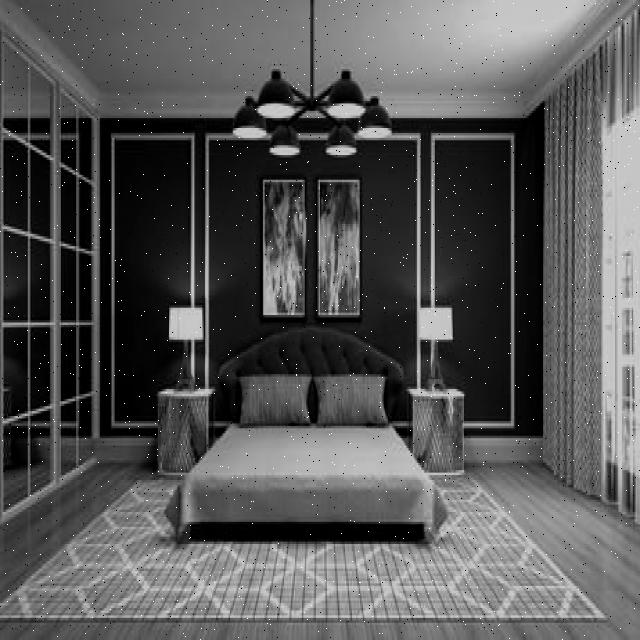bed: (209, 358, 405, 544)
